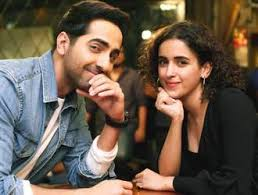Caution: (1, 1, 258, 195)
